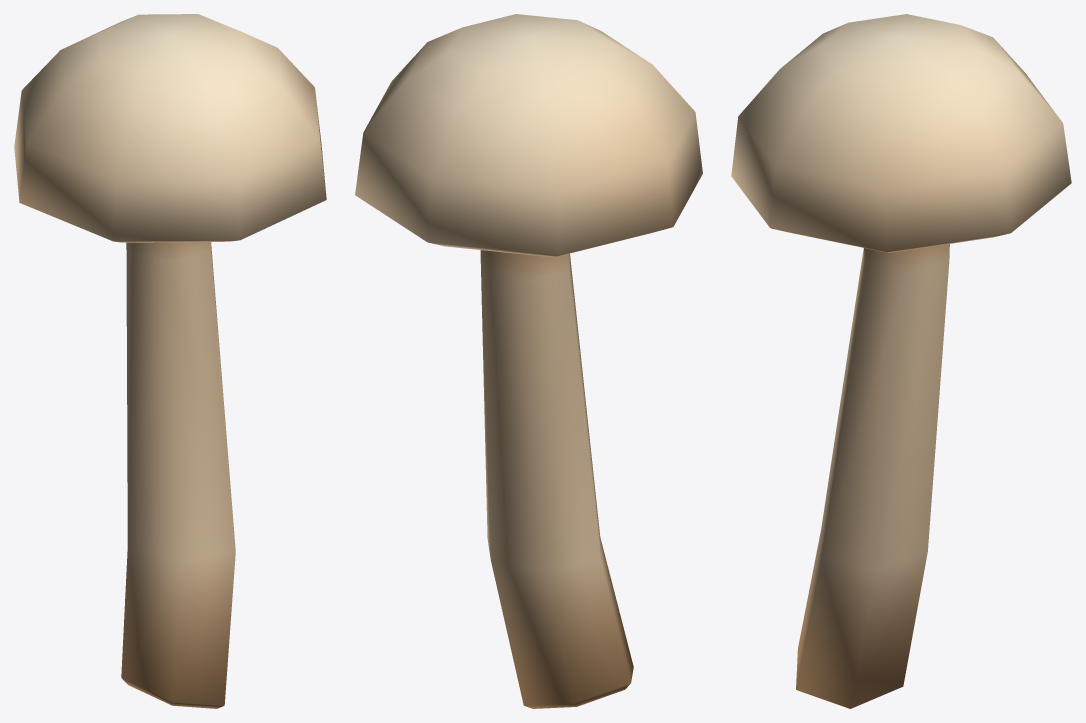
The model's file is SM_WhiteBeech_D.fbx.
The picture shows the model from 3 angles, left to right: view 1: azimuth 30°, elevation 25°; view 2: azimuth 150°, elevation 25°; view 3: azimuth 270°, elevation 25°; orthographic projection. The views are drawn at different scales.
Parts seen in each view (by area): view 1: SM_WhiteBeech_D; view 2: SM_WhiteBeech_D; view 3: SM_WhiteBeech_D.
Part boxes in pixels (left/top/right/bottom): SM_WhiteBeech_D: left=14, top=14, right=326, bottom=708; SM_WhiteBeech_D: left=355, top=14, right=702, bottom=708; SM_WhiteBeech_D: left=731, top=14, right=1071, bottom=708.
Size of the model in its own units: 10.66 by 22.83 by 10.66.
